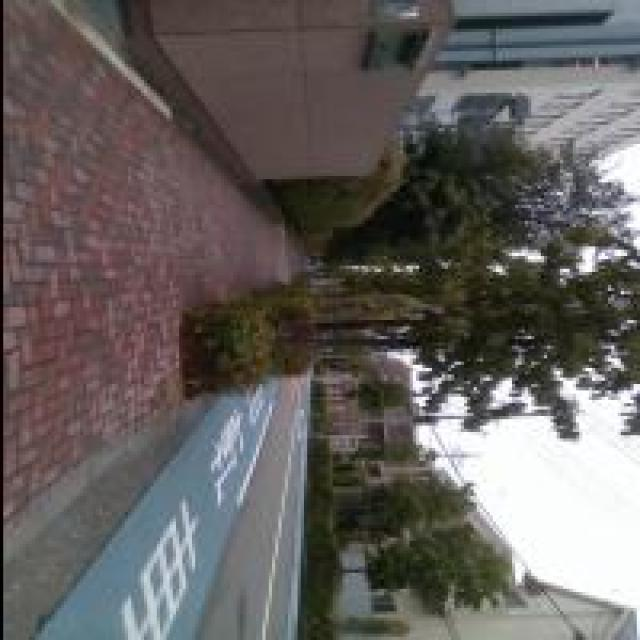Sidewalk: (5, 2, 298, 481)
